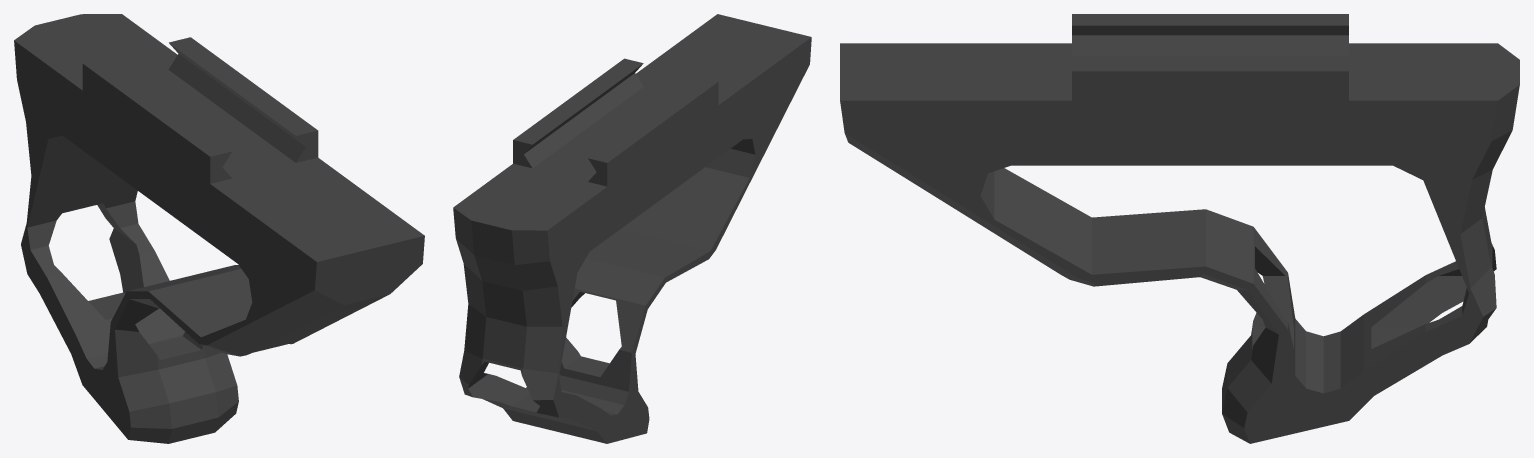
File: att_grip_hs.glb
3 views of the same model, side by side, from view 1: azimuth 30°, elevation 25°; view 2: azimuth 150°, elevation 25°; view 3: azimuth 270°, elevation 25° (orthographic). The views are drawn at different scales.
Visible parts, largest first — view 1: vertical_Grip_02_0; view 2: vertical_Grip_02_0; view 3: vertical_Grip_02_0.
Boxes of the visible parts, x1,y1,x2,y2 form: vertical_Grip_02_0: [14, 14, 424, 443]; vertical_Grip_02_0: [453, 14, 811, 443]; vertical_Grip_02_0: [840, 14, 1519, 443].
Bounding box in the file's own units: 0.0233 × 0.0716 × 0.1168.
Materials: 1 (1 with a texture image).
